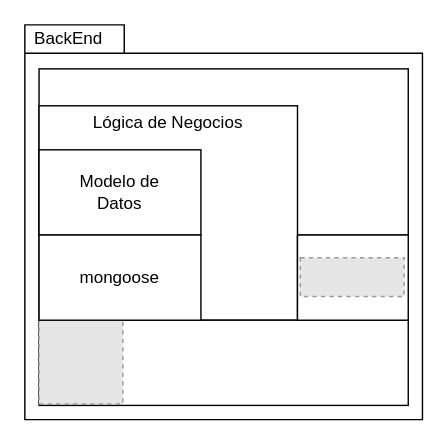
Some shapes in this 447 by 444 pixel diagram are drawn without their labels. Grey dashed boxes stand in for pictures. Here are the shapes that lost their labels. From the top down, the box of each, then its label:
(38, 67, 408, 235): Router / Controlador
(38, 319, 408, 405): NodeJS
